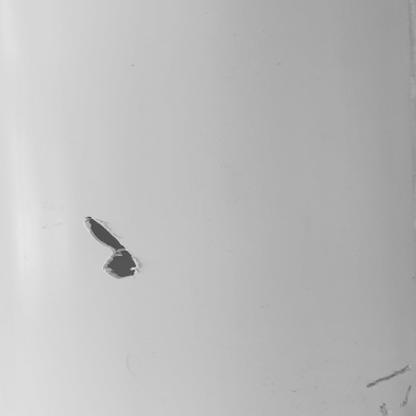fengxi: (368, 363, 416, 388), (402, 384, 413, 407), (377, 403, 390, 416)
kongdong: (85, 215, 141, 282)
